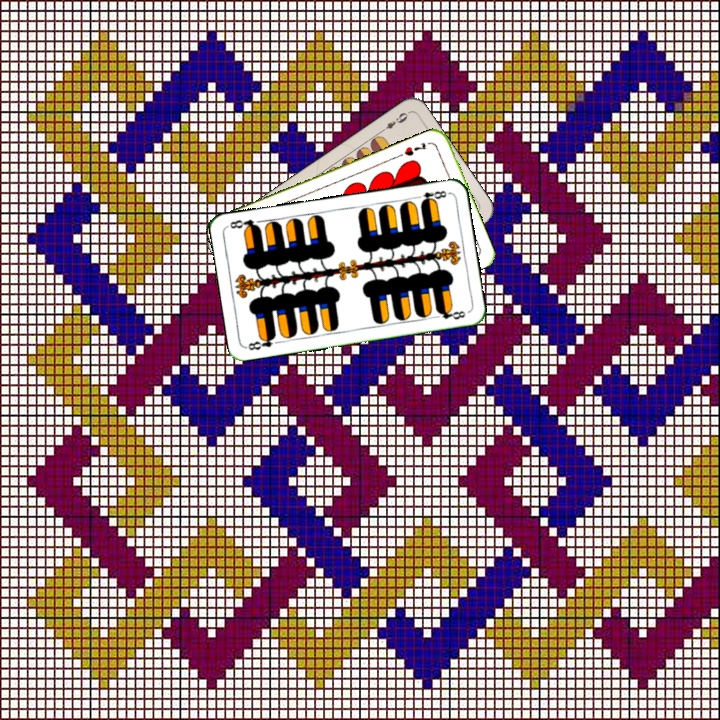E8: (411, 186, 451, 206), (243, 331, 278, 353)
E9: (375, 108, 410, 135)
H7: (400, 138, 429, 159)
